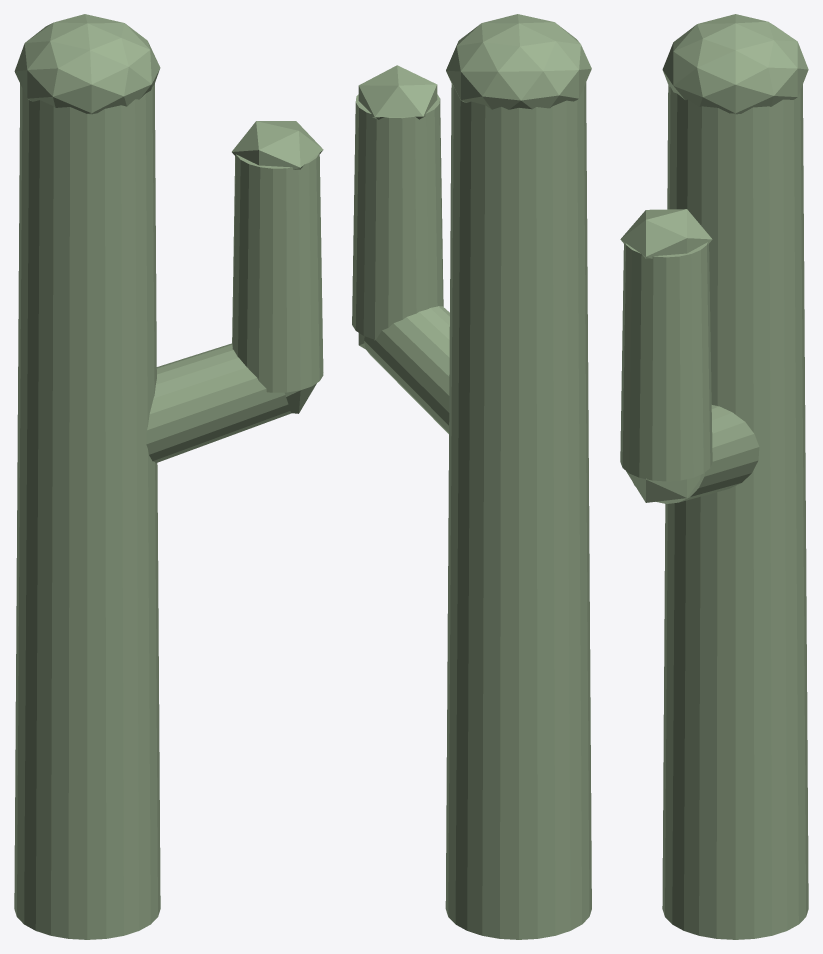
File: cactus_b.glb
3 renders of one model, left to right at view 1: azimuth 30°, elevation 25°; view 2: azimuth 150°, elevation 25°; view 3: azimuth 270°, elevation 25°, orthographic.
Parts seen in each view (by area): view 1: Cactus; view 2: Cactus; view 3: Cactus.
Part boxes in pixels (left/top/right/bottom): Cactus: left=14, top=14, right=323, bottom=939; Cactus: left=352, top=14, right=591, bottom=939; Cactus: left=620, top=14, right=808, bottom=939.
Bounding box in the file's own units: 0.7766 × 2.54 × 0.4896.
